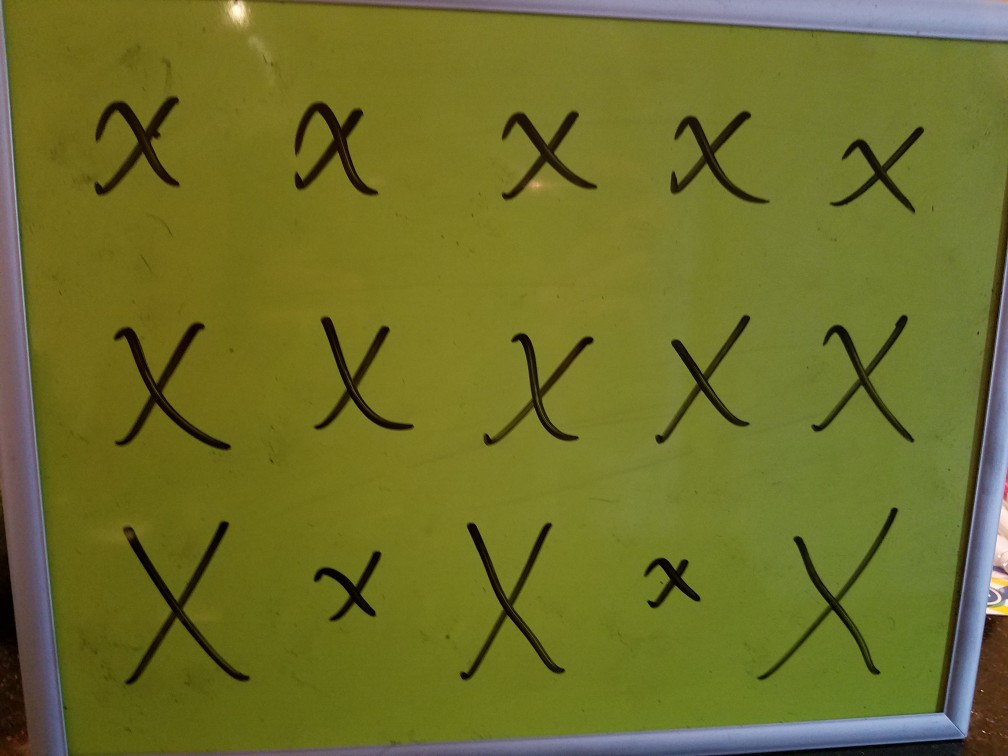x: (752, 482, 918, 694), (93, 488, 242, 689), (794, 293, 934, 474), (448, 497, 574, 677), (101, 310, 247, 457), (642, 288, 758, 457), (293, 301, 416, 446), (477, 312, 588, 457), (656, 87, 782, 213), (488, 92, 601, 223), (81, 88, 200, 206), (274, 95, 395, 204), (830, 103, 934, 227), (297, 517, 391, 635), (621, 535, 707, 622)
